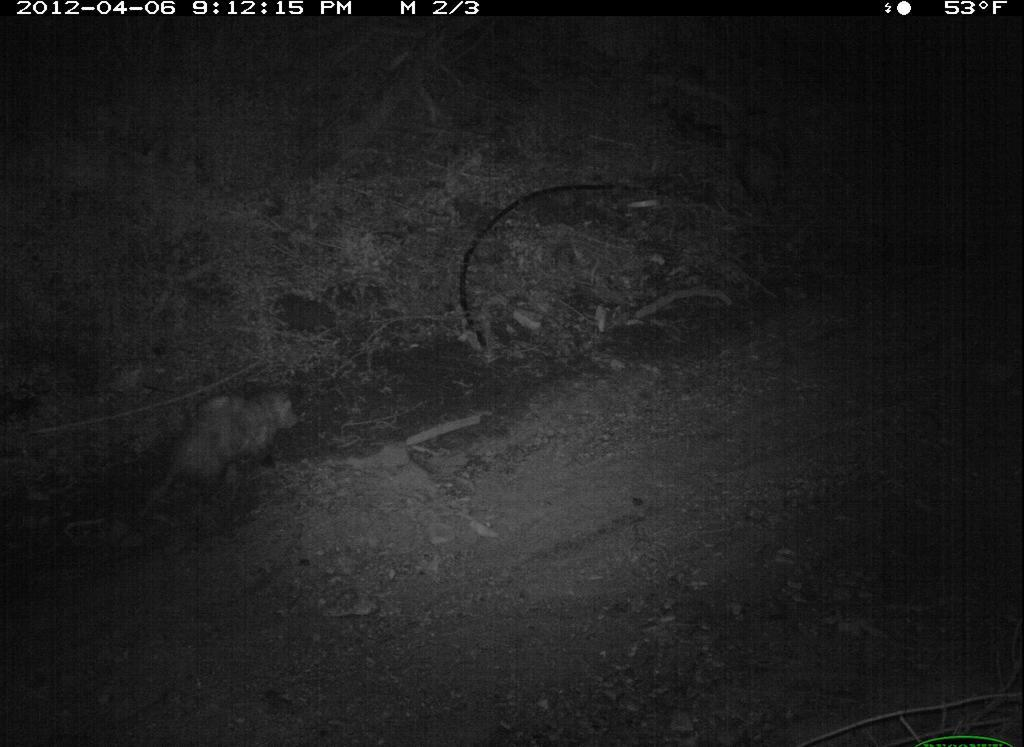opossum: (121, 356, 309, 528)
